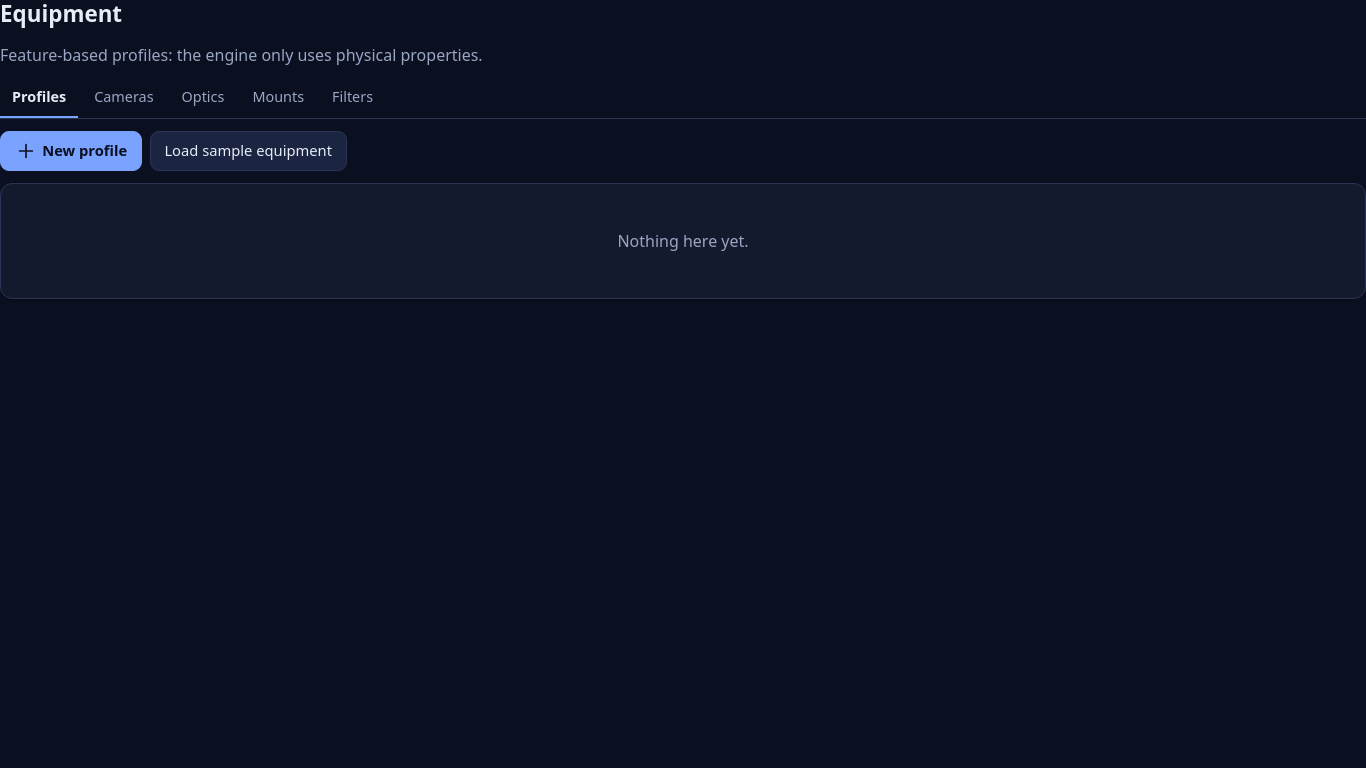
Equipment page › shows validation errors instead of saving invalid data
What coordinates should you click on to do the following:
click the tab "Optics"
I would click on:
 (203, 99)
Its box is [170,79,236,118].
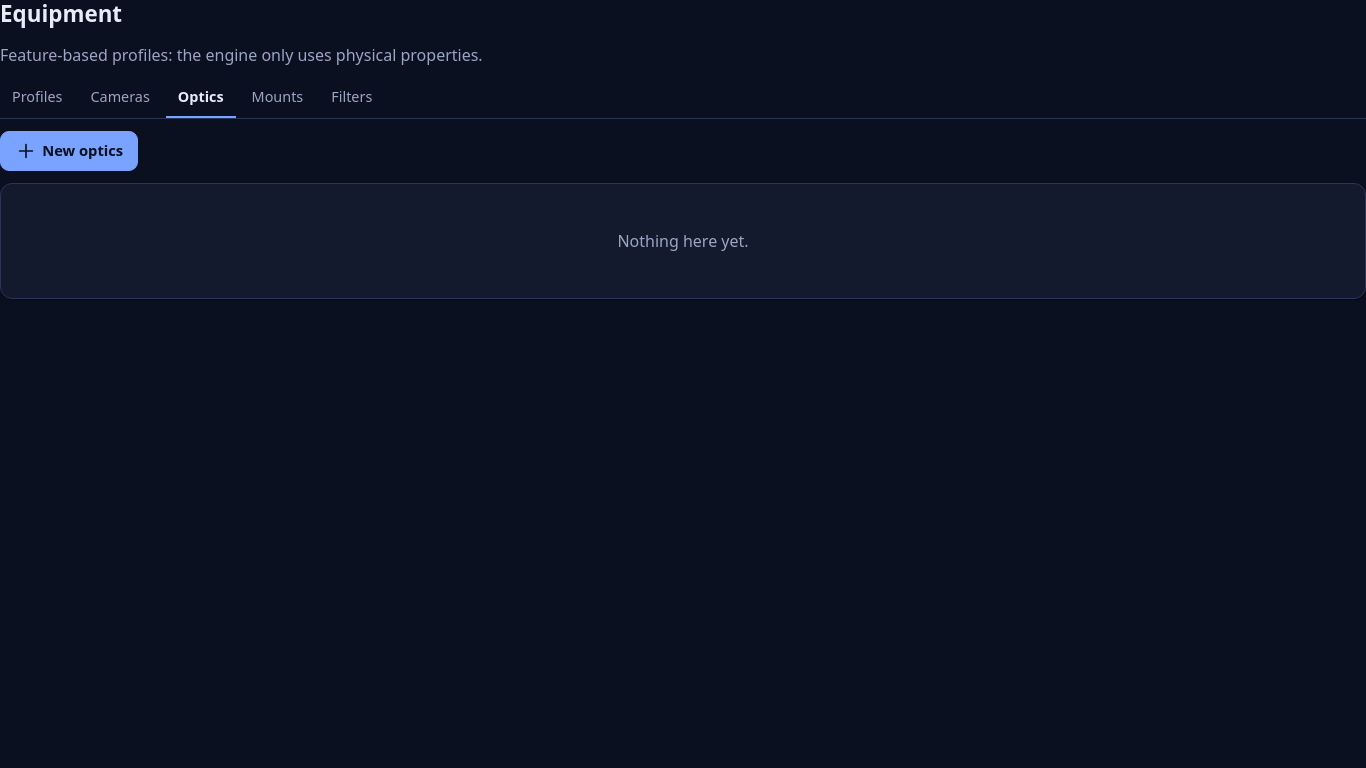
What coordinates should you click on to do the following:
click the button "New optics"
I would click on:
 (69, 151)
Its box is [0,131,138,171].
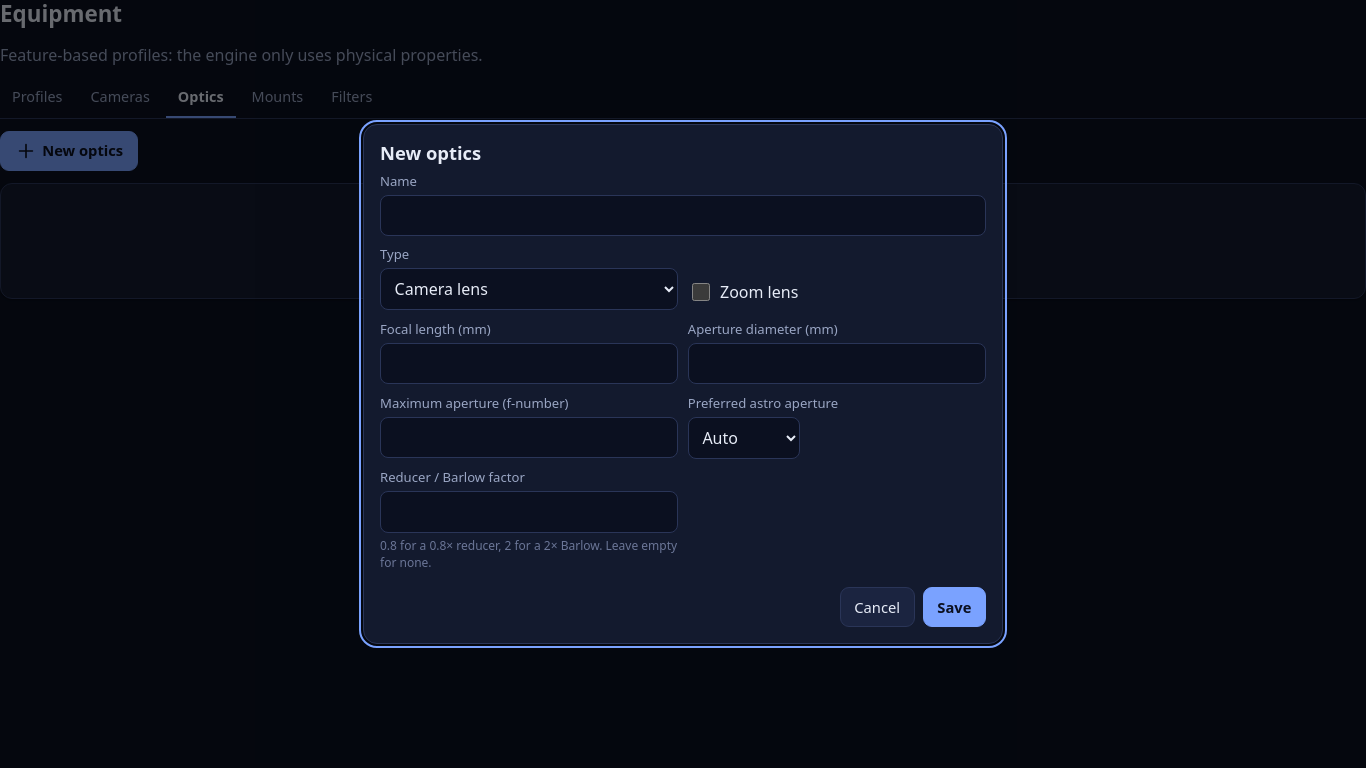
Result: the dialog is shown at [363,124,1003,644]
What coordinates should you click on to do the following:
click the button "Save"
I would click on:
 (954, 607)
Its box is [923,587,986,627].
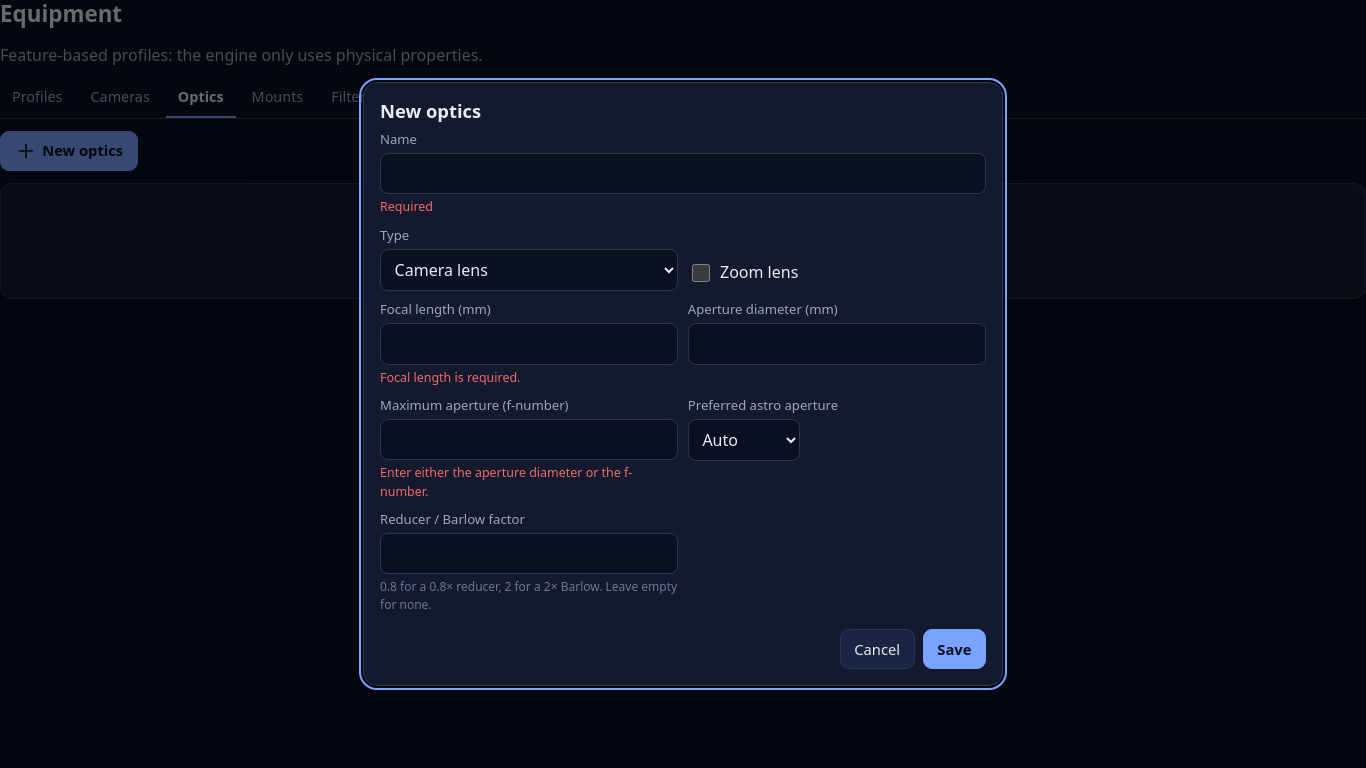
Result: the text "Focal length is required." is shown at [380,368,520,386]
